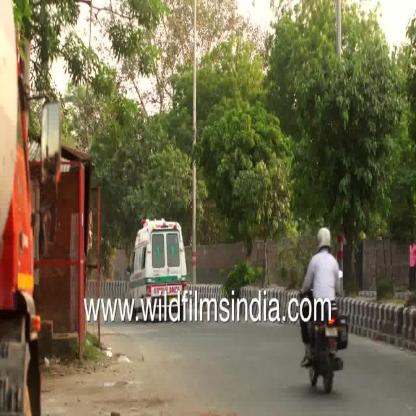priority: (126, 214, 190, 302)
